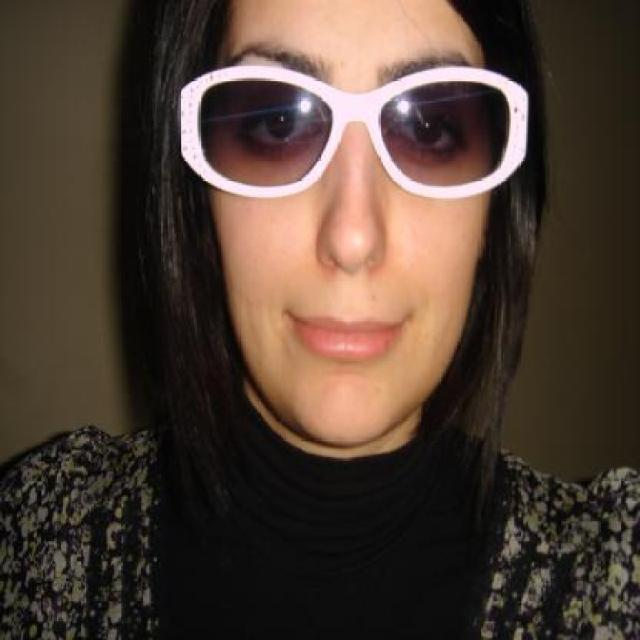face_nomask: (236, 81, 461, 368)
glasses: (167, 46, 553, 202)
